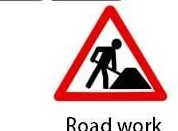Traffic signal: (53, 5, 169, 108)
